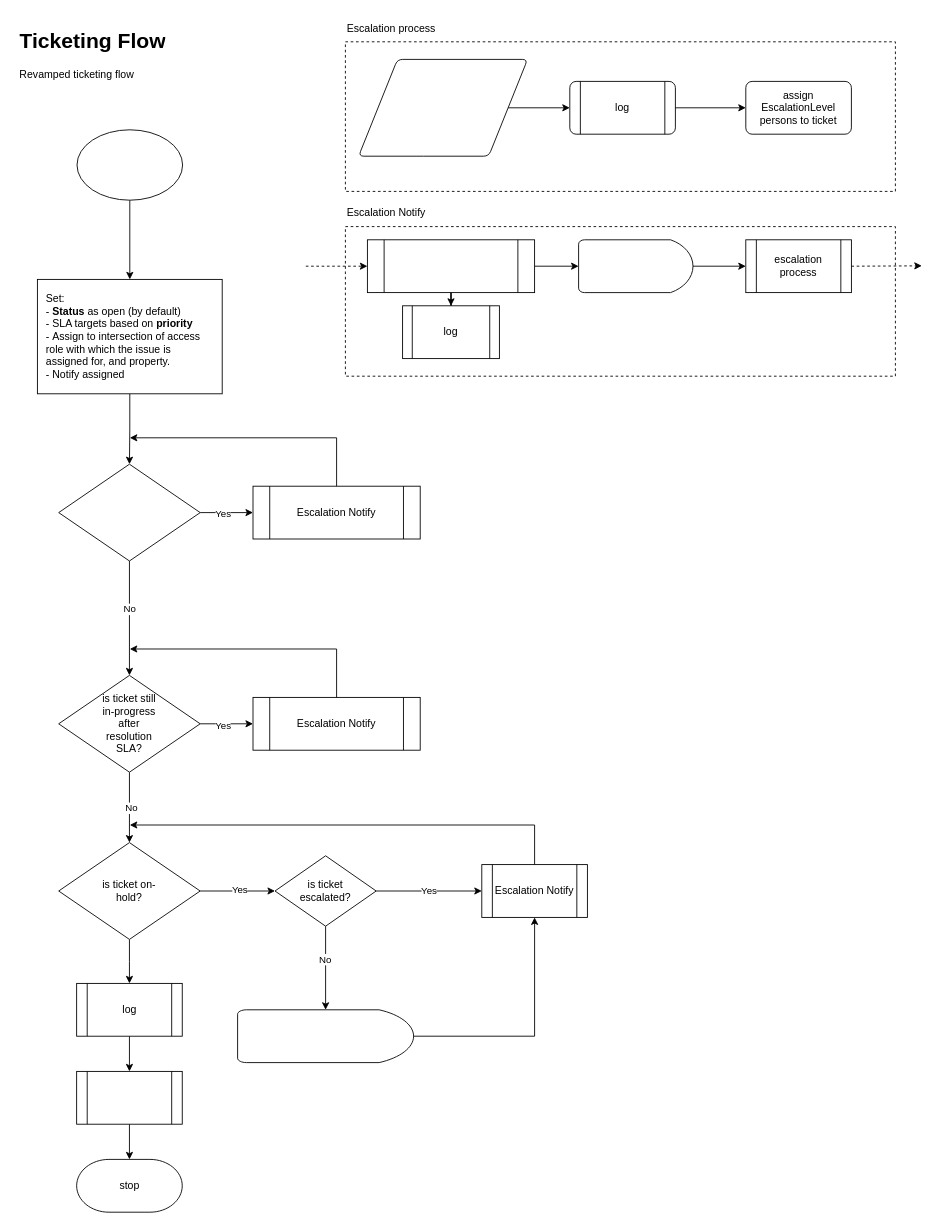
Some shapes in this 944 by 1228 pixel diagram are drawn without their labels. The shapes that lost their labels are listed below. From the top down, each one's centre as x and y in pixels, then its label:
(443,107): Accept values: - EscalationLevel (1,2,3)
(129,164): Creates ticket
(451,266): send slack notification to assigned reminding of breach
(635,266): grace period based on priority of ticket
(129,512): is ticket still open after first response SLA?
(325,1036): wait extra time for on-hold timings based on the priority level
(129,1097): trigger rating
